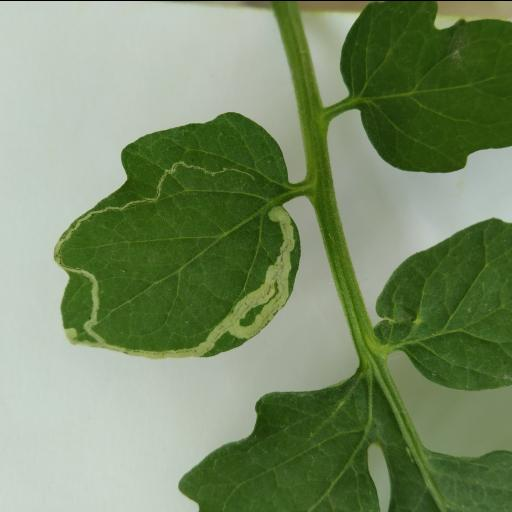disease_tomato: (56, 110, 302, 361)
